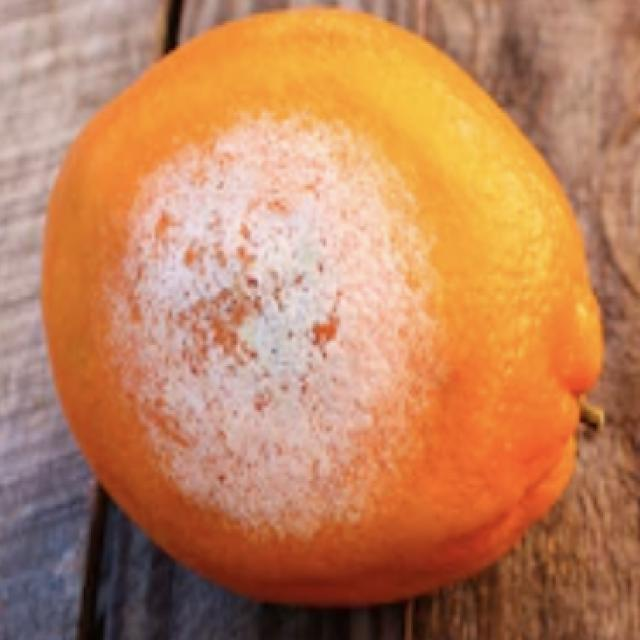sedikit_busuk: (42, 11, 597, 610)
